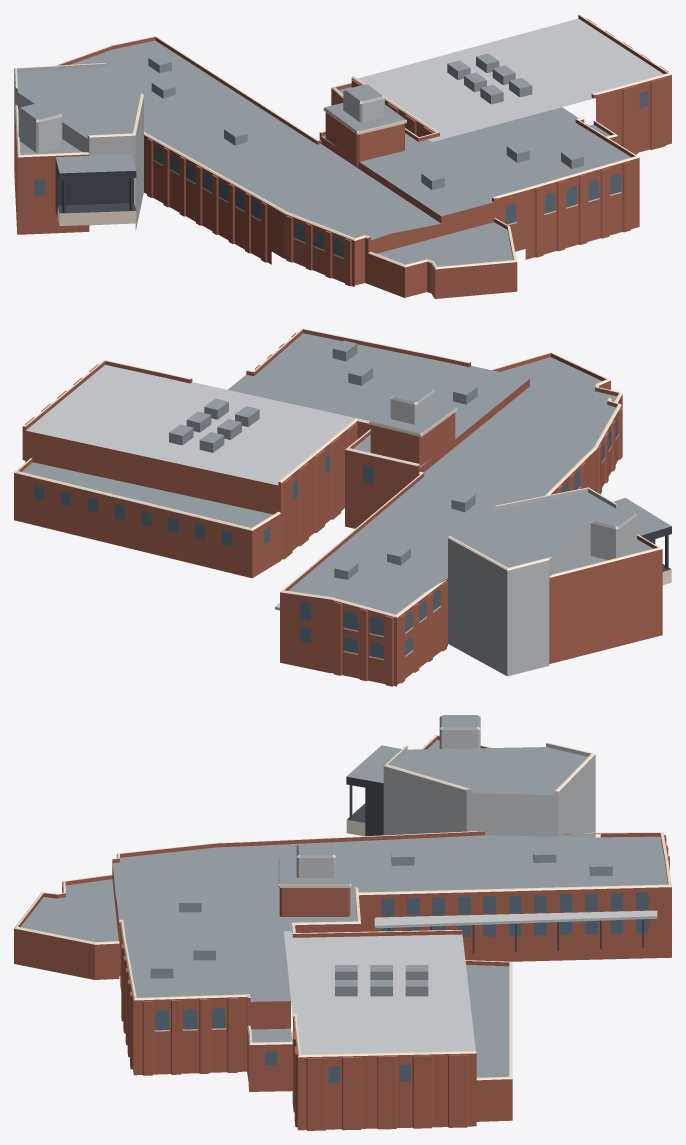
File: music-factory-mill.glb
The picture shows the model from 3 angles, top to bottom: view 1: azimuth 30°, elevation 25°; view 2: azimuth 150°, elevation 25°; view 3: azimuth 270°, elevation 25°; orthographic projection. The views are drawn at different scales.
Visible parts, largest first — view 1: AvidXchange Music Factory mill; view 2: AvidXchange Music Factory mill; view 3: AvidXchange Music Factory mill.
Boxes of the visible parts, x1=… form: AvidXchange Music Factory mill: x1=14, y1=14, x2=671, y2=298; AvidXchange Music Factory mill: x1=14, y1=328, x2=671, y2=686; AvidXchange Music Factory mill: x1=14, y1=715, x2=671, y2=1130.
Size of the model in its own units: 103 by 20.22 by 92.9.
